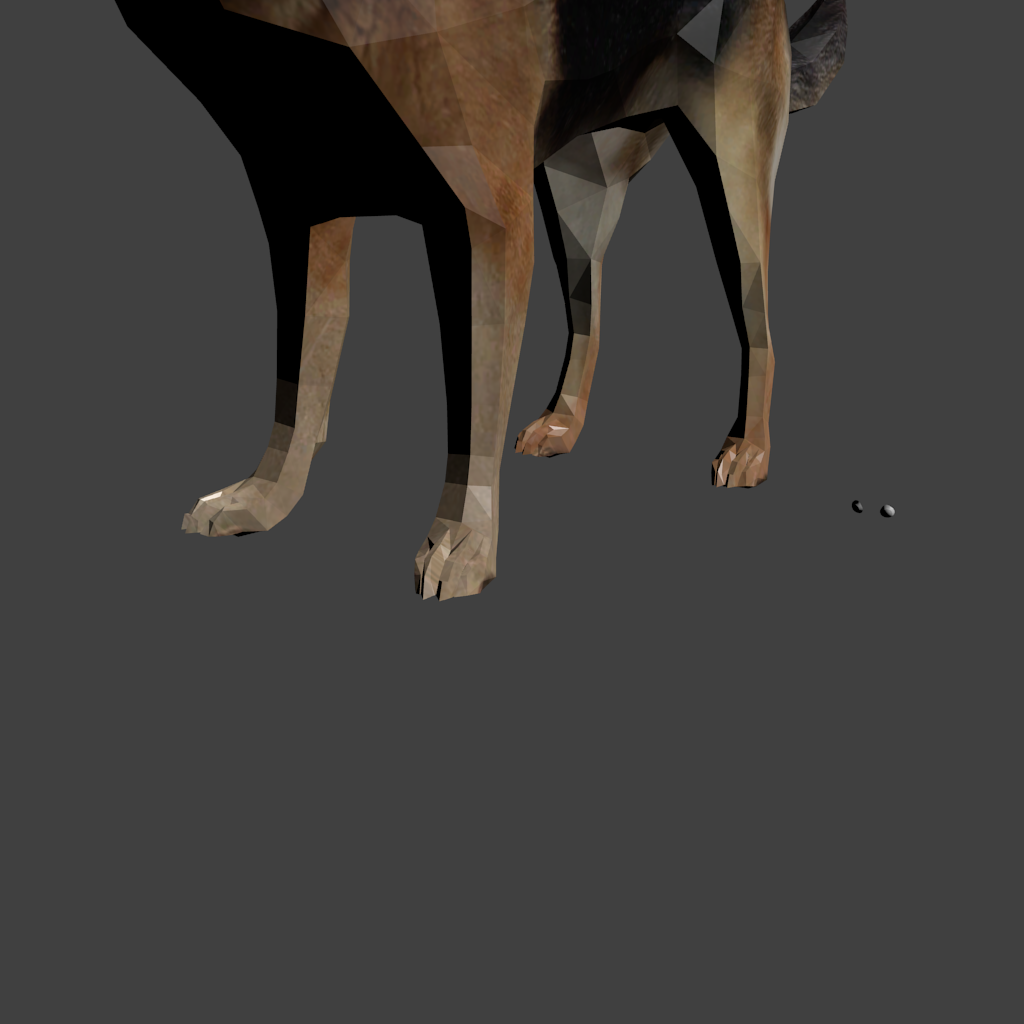Dog: (0, 0, 1024, 1024), (0, 0, 848, 601)
